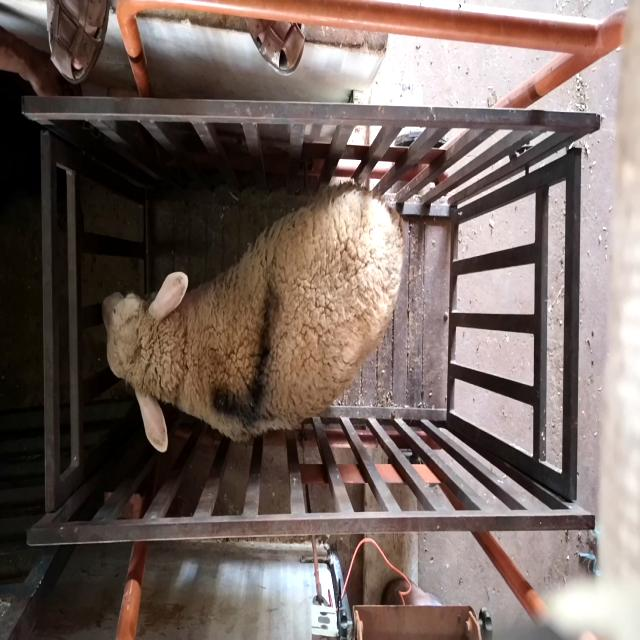sheep: (102, 183, 403, 452)
